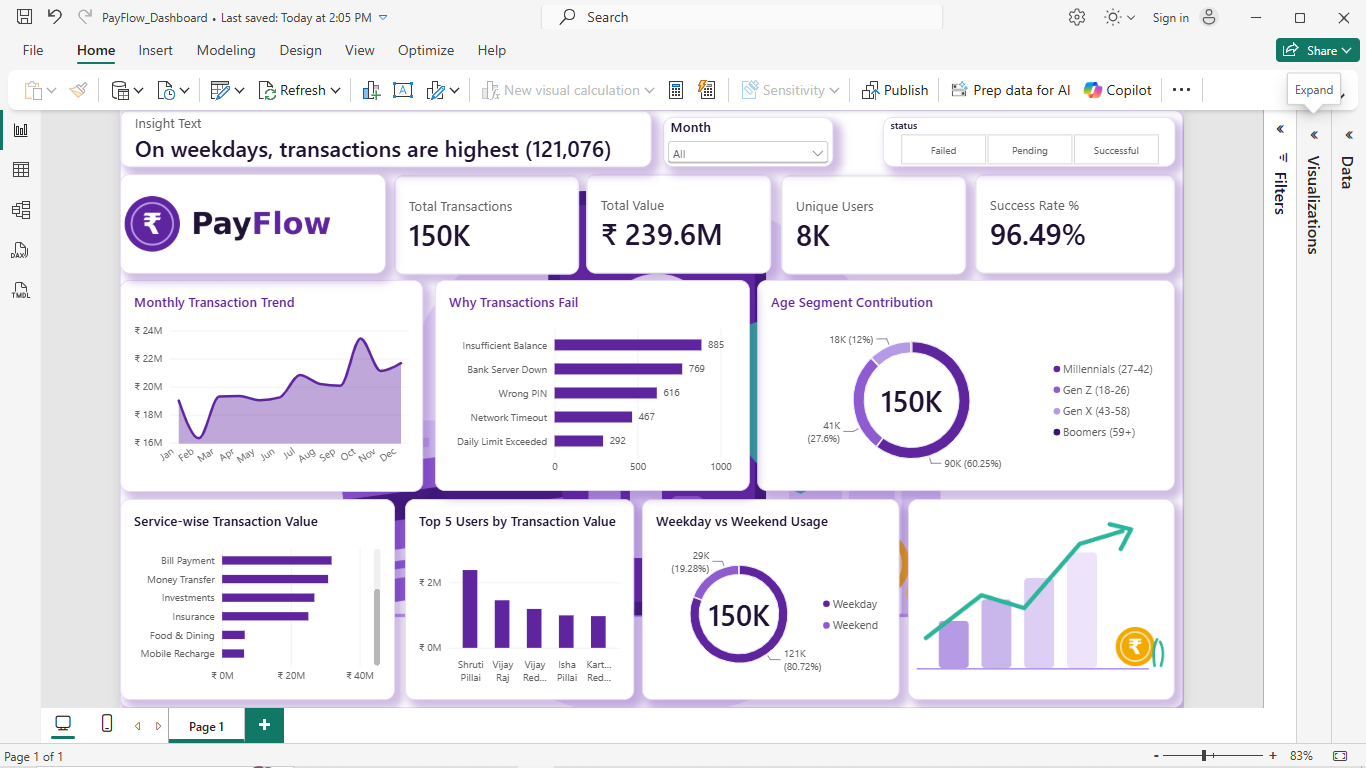

The dashboard page shown, as its layout file describes it:
{"tool":"powerbi","page":{"name":"Page 1","canvas":[1280,720],"ordinal":0},"visuals":[{"type":"image","box":[0,0,1280,720.4],"z":0},{"type":"cardVisual","fields":{"Data":["transactions.Total Transactions"]},"box":[330,78,223,120],"z":1000},{"type":"cardVisual","fields":{"Data":["transactions.Total Value"]},"box":[560.7,77.6,223,120],"z":2000},{"type":"cardVisual","fields":{"Data":["transactions.Unique Users"]},"box":[796,78,223,120],"z":3000},{"type":"cardVisual","fields":{"Data":["transactions.Success Rate %"]},"box":[1029.1,77.6,240.9,120.4],"z":4000},{"type":"areaChart","title":"Monthly Transaction Trend","fields":{"Category":["DimDate.Month"],"Y":["transactions.Total Value"]},"box":[0,204.4,365,255],"z":5000},{"type":"donutChart","title":"Age Segment Contribution","fields":{"Category":["users.age_group"],"Y":["transactions.Total Transactions"]},"box":[766.8,204.8,503.2,254.3],"z":6000},{"type":"clusteredBarChart","title":"Service-wise Transaction Value","fields":{"Category":["transactions.service_type"],"Y":["transactions.Total Value"]},"box":[0,468.4,330.6,242.2],"z":7000},{"type":"clusteredColumnChart","title":"Top 5 Users by Transaction Value","fields":{"Category":["users.user_name"],"Y":["transactions.Total Value"]},"box":[342.6,468.4,275.7,242.2],"z":8000},{"type":"donutChart","title":"Weekday vs Weekend Usage","fields":{"Category":["DimDate.Day Type"],"Y":["transactions.Total Transactions"]},"box":[629,468.4,310.5,242.2],"z":9000},{"type":"slicer","fields":{"Values":["DimDate.Month"]},"box":[654,8,205,60],"z":10000},{"type":"slicer","fields":{"Values":["transactions.status"]},"box":[918.1,8,352,60.2],"z":11000},{"type":"cardVisual","fields":{"Data":["transactions.Insight Text"]},"box":[0,0,640,69.1],"z":12000},{"type":"clusteredBarChart","title":"Why Transactions Fail","fields":{"Category":["transactions.failure_reason"],"Y":["transactions.Total Transactions"]},"box":[378.7,204.8,378.7,254.3],"z":13000},{"type":"image","box":[0,77.5,320,119.8],"z":14000},{"type":"image","box":[948.8,468.4,321.2,242.2],"z":15000}]}

Visuals, with their boxes on the page's 1280x720 design canvas (x1, y1, x2, y2). These are canvas units, not pixel positions in the 1366x768 screenshot, which may show the page scaled, cropped or inside an application window:
image: x1=0, y1=0, x2=1280, y2=720
cardVisual - transactions.Total Transactions: x1=330, y1=78, x2=553, y2=198
cardVisual - transactions.Total Value: x1=561, y1=78, x2=784, y2=198
cardVisual - transactions.Unique Users: x1=796, y1=78, x2=1019, y2=198
cardVisual - transactions.Success Rate %: x1=1029, y1=78, x2=1270, y2=198
"Monthly Transaction Trend" areaChart: x1=0, y1=204, x2=365, y2=459
"Age Segment Contribution" donutChart: x1=767, y1=205, x2=1270, y2=459
"Service-wise Transaction Value" clusteredBarChart: x1=0, y1=468, x2=331, y2=711
"Top 5 Users by Transaction Value" clusteredColumnChart: x1=343, y1=468, x2=618, y2=711
"Weekday vs Weekend Usage" donutChart: x1=629, y1=468, x2=940, y2=711
slicer - DimDate.Month: x1=654, y1=8, x2=859, y2=68
slicer - transactions.status: x1=918, y1=8, x2=1270, y2=68
cardVisual - transactions.Insight Text: x1=0, y1=0, x2=640, y2=69
"Why Transactions Fail" clusteredBarChart: x1=379, y1=205, x2=757, y2=459
image: x1=0, y1=78, x2=320, y2=197
image: x1=949, y1=468, x2=1270, y2=711
